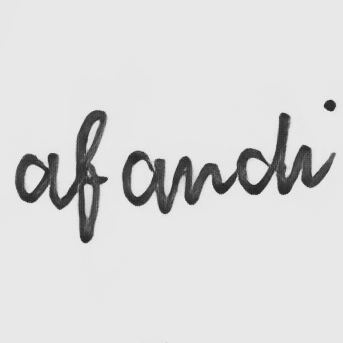a: (119, 148, 169, 216), (13, 149, 62, 208)
d: (233, 109, 292, 197)
f: (72, 108, 110, 245)
i: (296, 96, 338, 189)
n: (178, 154, 225, 208)
